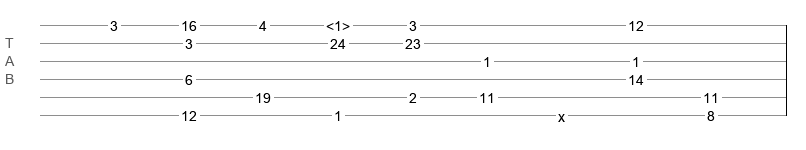1: (334, 108, 342, 118), (483, 54, 491, 64), (632, 54, 640, 64)
11: (479, 90, 495, 100), (703, 90, 719, 100)
12: (181, 108, 197, 118), (628, 18, 644, 28)
14: (628, 72, 644, 82)
16: (181, 18, 197, 28)
19: (255, 90, 271, 100)
2: (409, 90, 417, 100)
23: (405, 36, 421, 46)
24: (330, 36, 346, 46)
3: (110, 18, 118, 28), (185, 36, 193, 46), (409, 18, 417, 28)
4: (259, 18, 267, 28)
6: (185, 72, 193, 82)
8: (707, 108, 715, 118)
harmonic: (326, 18, 350, 28)
x: (558, 109, 565, 117)
